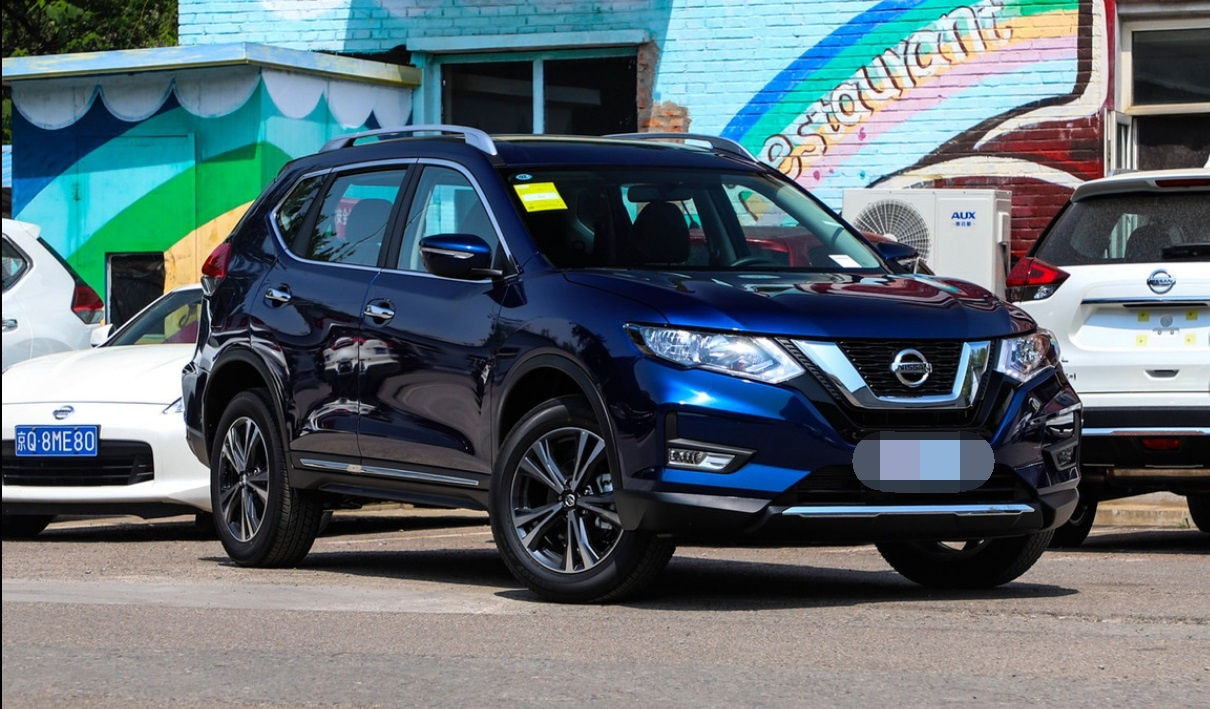SUV: (149, 124, 1100, 618)
